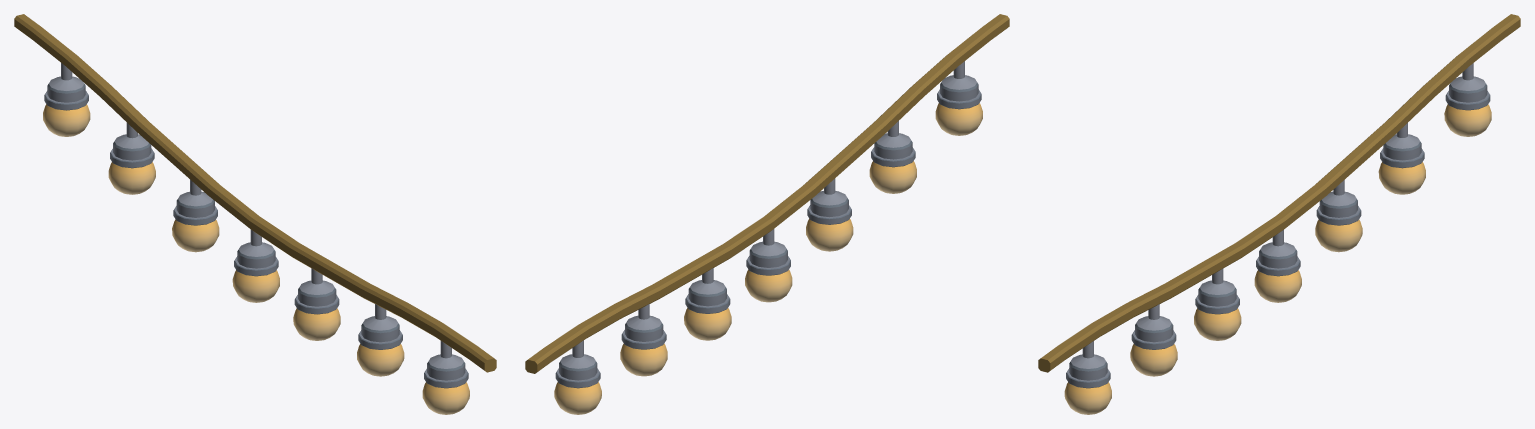
File: Lights_2_A.glb
The picture shows the model from 3 angles, left to right: view 1: azimuth 30°, elevation 25°; view 2: azimuth 150°, elevation 25°; view 3: azimuth 330°, elevation 25°; orthographic projection.
Visible parts, largest first — view 1: Lights_2_A; view 2: Lights_2_A; view 3: Lights_2_A.
Boxes of the visible parts, left/top/right/bottom form: Lights_2_A: left=14, top=14, right=496, bottom=414; Lights_2_A: left=525, top=14, right=1009, bottom=414; Lights_2_A: left=1038, top=14, right=1520, bottom=414.
Bounding box in the file's own units: 0.1066 × 0.2759 × 2.12.
Materials: 2 (2 with a texture image).
